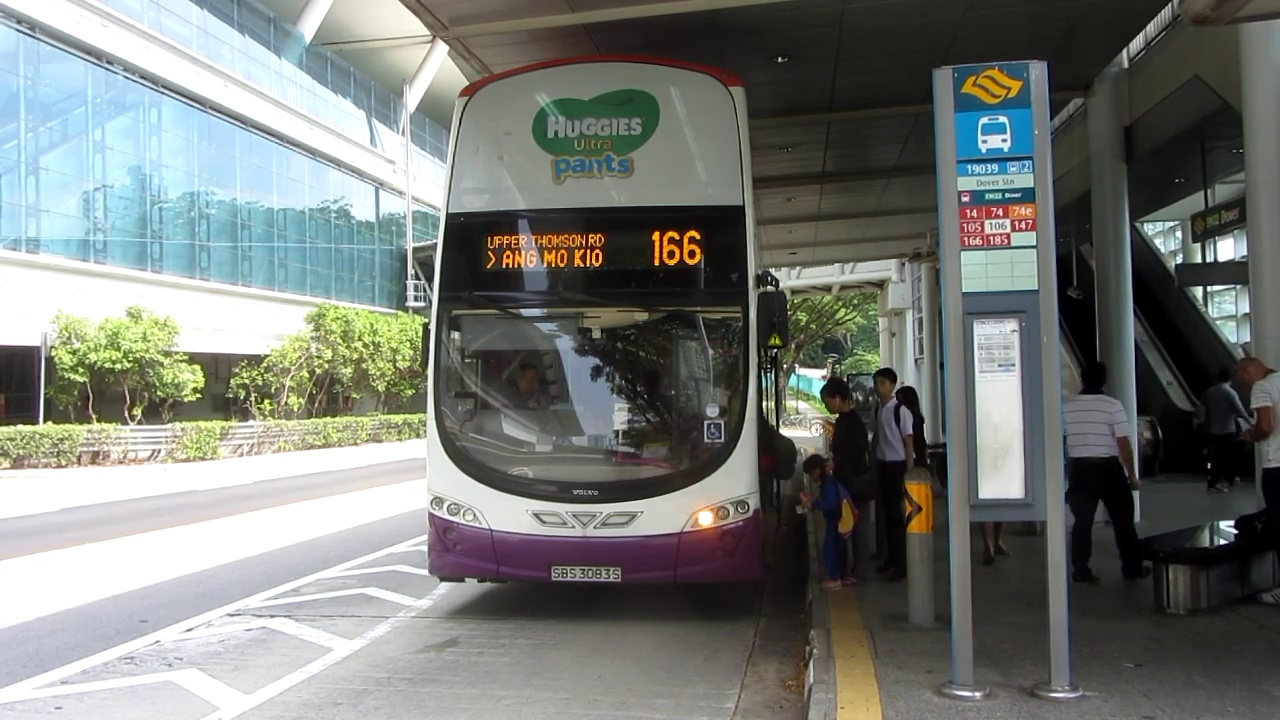bus panel: (478, 226, 708, 274)
